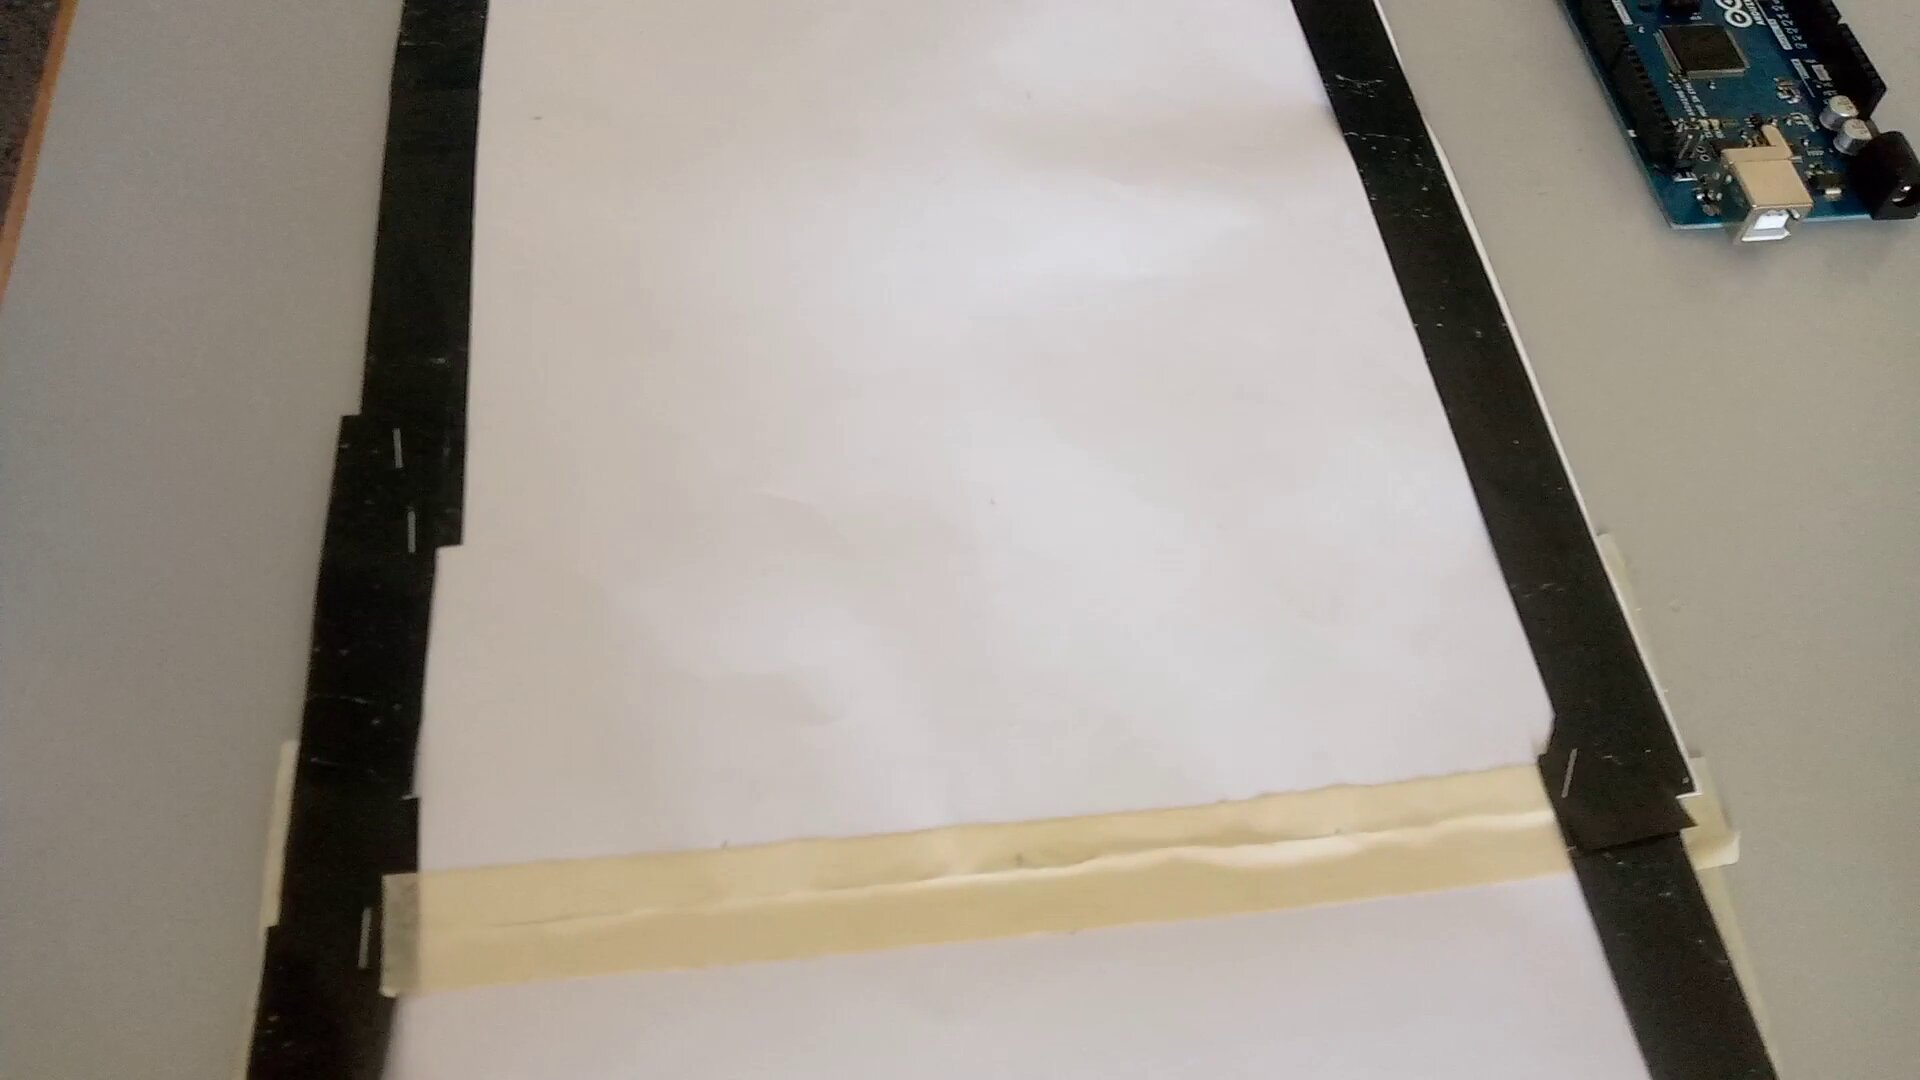forward: (316, 256, 1593, 543)
